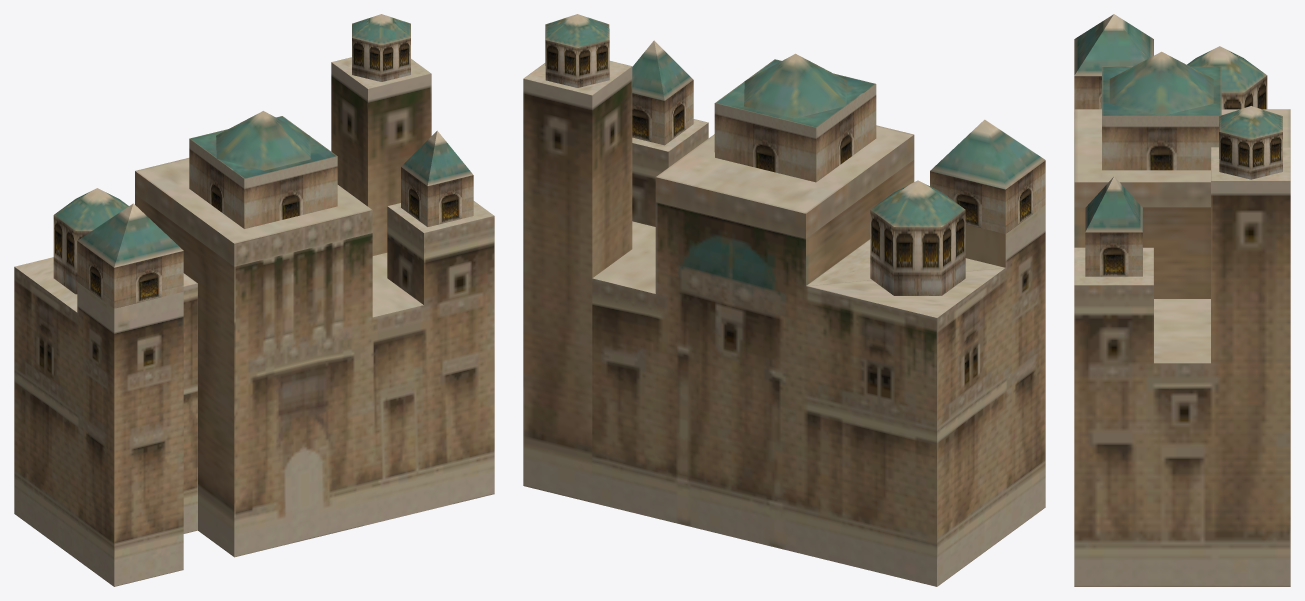
File: thm_nboo_block_bldg_32x16_s01_r0_mesh_l4.fbx
The picture shows the model from 3 angles, left to right: view 1: azimuth 30°, elevation 25°; view 2: azimuth 150°, elevation 25°; view 3: azimuth 270°, elevation 25°; orthographic projection. The views are drawn at different scales.
Parts seen in each view (by area): view 1: mesh_node; view 2: mesh_node; view 3: mesh_node.
Boxes of the visible parts, x1,y1,x2,y2 form: mesh_node: (14,14,494,586); mesh_node: (523,14,1045,586); mesh_node: (1074,14,1290,586).
Size of the model in its own units: 30.05 by 32.31 by 13.66.
